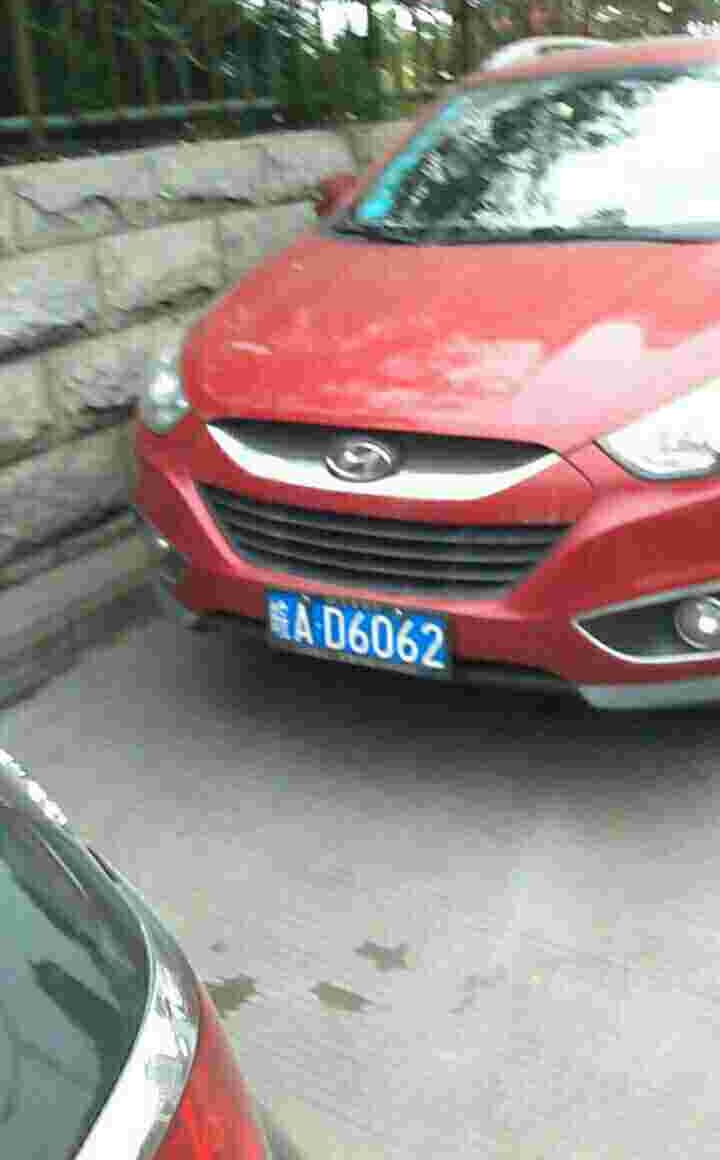license_plate: (275, 597, 447, 665)
